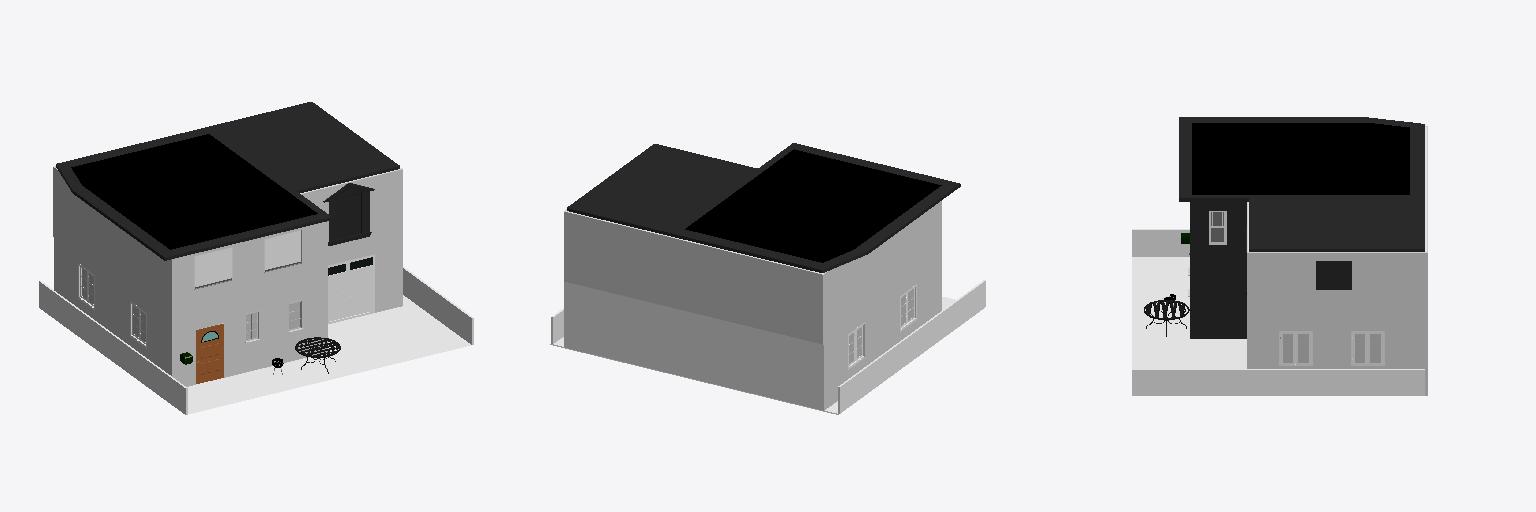
The model's file is Casa3.obj.
3 views of the same model, side by side, from view 1: azimuth 30°, elevation 25°; view 2: azimuth 150°, elevation 25°; view 3: azimuth 270°, elevation 25° (orthographic).
Parts seen in each view (by area): view 1: room_20_95, room_19_94, room_18_93, wall_10_53, wall_2_11, wall_15_83, wall_1_5, wall_9_46, wall_12_65, PolyMesh_1_152, wall_4_23, wall_7_40 (+6 smaller); view 2: wall_14_77, wall_6_35, room_20_95, room_19_94, wall_15_83, wall_1_5, wall_9_46; view 3: room_20_95, room_19_94, wall_13_71, wall_7_41, room_18_93, wall_5_29, wall_3_17, wall_11_59, wall_9_47, blackdecktable_245.
Part boxes in pixels (bbox=[...]): room_20_95: bbox=[71, 134, 317, 249]; room_19_94: bbox=[56, 102, 399, 260]; room_18_93: bbox=[187, 295, 470, 413]; wall_10_53: bbox=[172, 221, 327, 323]; wall_2_11: bbox=[172, 286, 327, 386]; wall_15_83: bbox=[53, 167, 171, 322]; wall_1_5: bbox=[54, 238, 171, 375]; wall_9_46: bbox=[39, 281, 186, 414]; wall_12_65: bbox=[301, 169, 402, 257]; PolyMesh_1_152: bbox=[328, 254, 374, 323]; wall_4_23: bbox=[328, 239, 402, 312]; wall_7_40: bbox=[403, 268, 472, 344]; wall_14_77: bbox=[564, 212, 822, 344]; wall_6_35: bbox=[564, 282, 823, 410]; room_20_95: bbox=[685, 149, 941, 262]; room_19_94: bbox=[567, 143, 960, 272]; wall_15_83: bbox=[823, 201, 941, 344]; wall_1_5: bbox=[824, 258, 941, 410]; wall_9_46: bbox=[839, 281, 985, 413]; room_20_95: bbox=[1192, 123, 1409, 194]; room_19_94: bbox=[1179, 117, 1424, 251]; wall_13_71: bbox=[1247, 253, 1427, 322]; wall_7_41: bbox=[1132, 370, 1424, 395]; room_18_93: bbox=[1132, 257, 1246, 368]; wall_5_29: bbox=[1247, 323, 1425, 389]; wall_3_17: bbox=[1190, 272, 1246, 338]; wall_11_59: bbox=[1190, 202, 1246, 271]; wall_9_47: bbox=[1132, 230, 1189, 256]; blackdecktable_245: bbox=[1144, 300, 1189, 336].
Size of the model in its own units: 1130 by 524 by 1002.